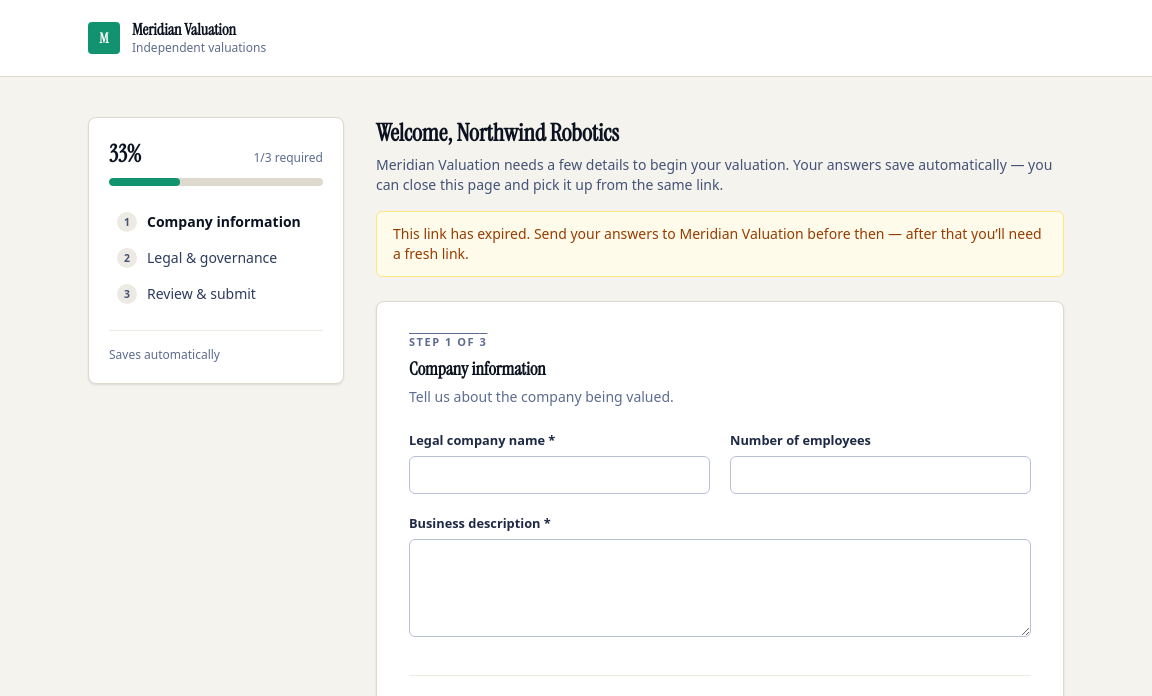
ClientIntakePage › blocks submission while required answers are missing, and says how many
The width and height of the screenshot is (1152, 696).
Expected: the heading "Welcome, Northwind Robotics" is shown, [376,117,619,148]
Click the button "3 Review & submit".
click(216, 294)  # box [109,278,323,310]
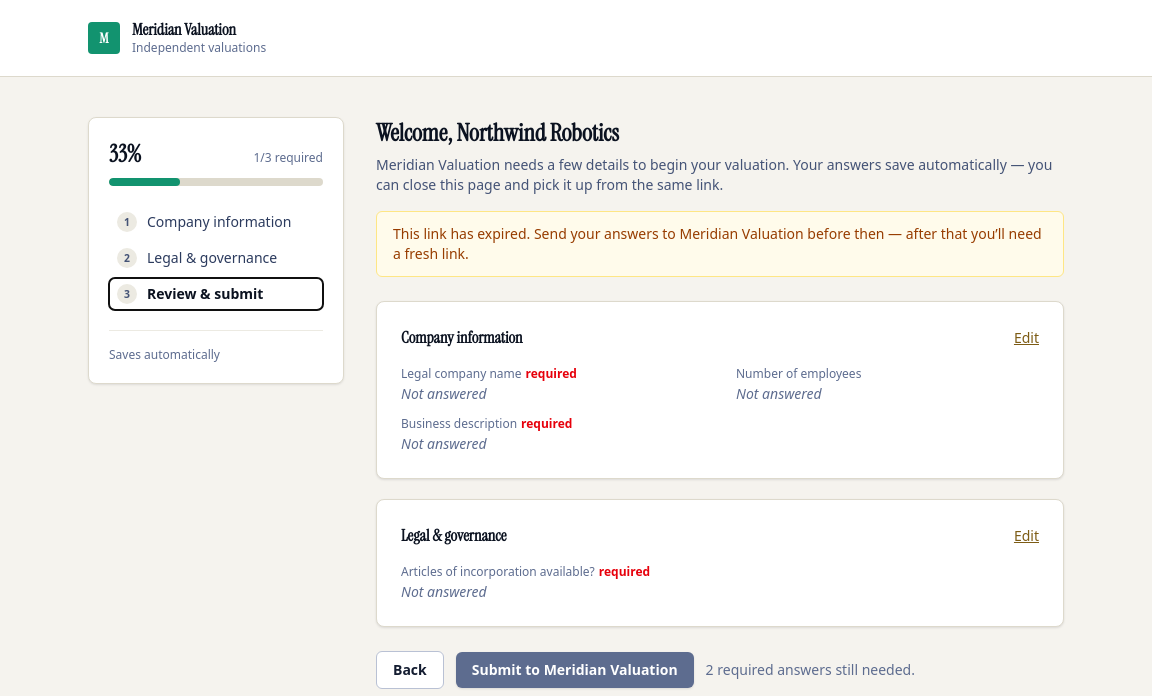
Now the button "Submit to Meridian Valuation" is disabled, box [456,652,694,688]
Now the text "2 required answers still needed." is shown, box [706,660,915,680]
